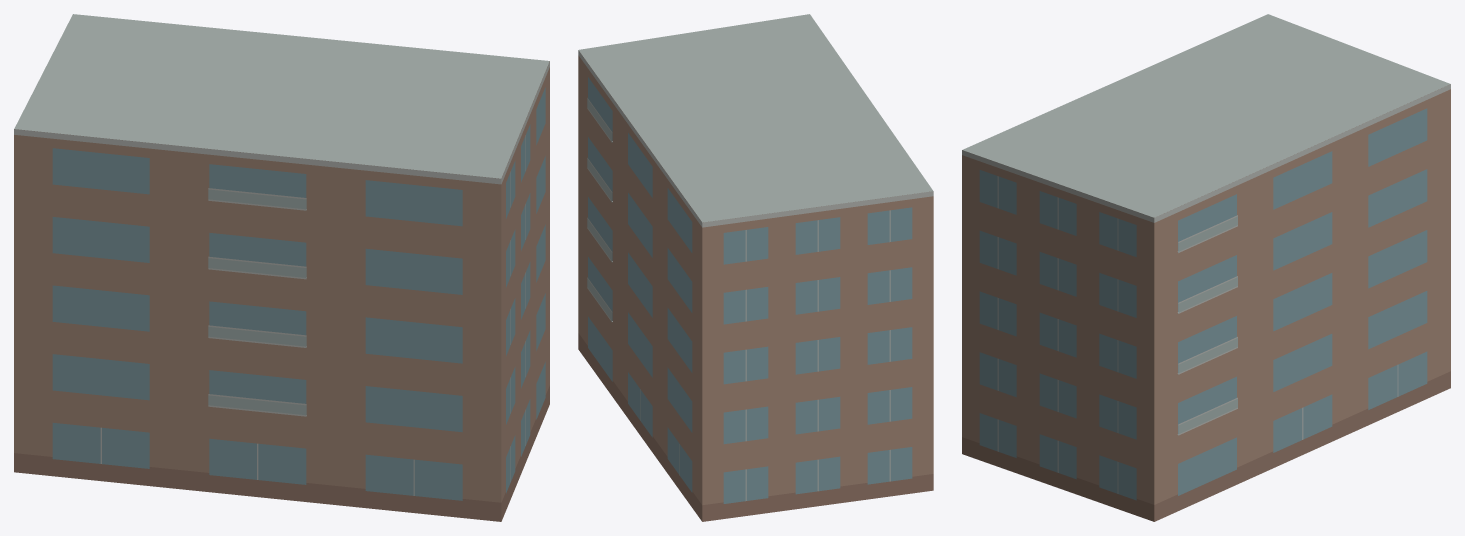
File: survey-upis-32987799.glb
The picture shows the model from 3 angles, left to right: view 1: azimuth 30°, elevation 25°; view 2: azimuth 150°, elevation 25°; view 3: azimuth 270°, elevation 25°; orthographic projection. The views are drawn at different scales.
Parts seen in each view (by area): view 1: survey-upis-32987799.tmp; view 2: survey-upis-32987799.tmp; view 3: survey-upis-32987799.tmp.
Part boxes in pixels (x1,y1,x2,y2): survey-upis-32987799.tmp: (14, 14, 549, 521); survey-upis-32987799.tmp: (578, 14, 933, 521); survey-upis-32987799.tmp: (962, 14, 1450, 521).
Size of the model in its own units: 20.85 by 14.5 by 21.13.
